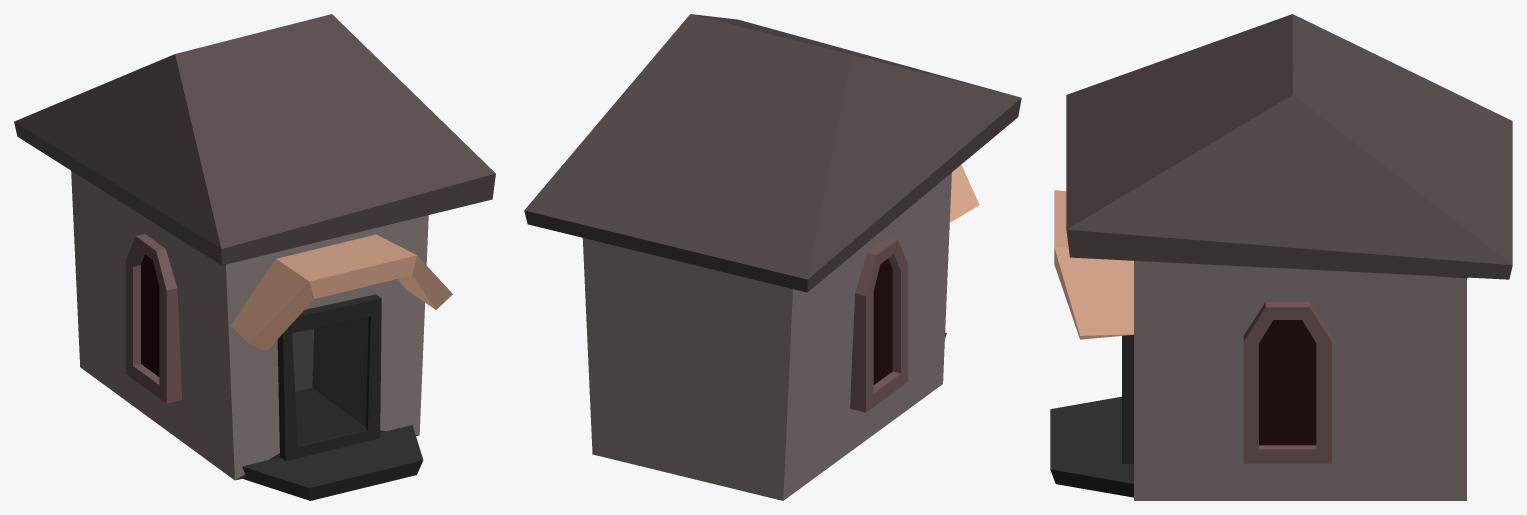
Rendered from HWN20_PetTomb_02.glb.
3 renders of one model, left to right at view 1: azimuth 30°, elevation 25°; view 2: azimuth 150°, elevation 25°; view 3: azimuth 270°, elevation 25°, orthographic. The views are drawn at different scales.
Parts seen in each view (by area): view 1: HWN20_PetTomb_02; view 2: HWN20_PetTomb_02; view 3: HWN20_PetTomb_02.
Part boxes in pixels (bbox=[...]): HWN20_PetTomb_02: bbox=[14, 14, 495, 500]; HWN20_PetTomb_02: bbox=[524, 14, 1021, 500]; HWN20_PetTomb_02: bbox=[1050, 14, 1512, 500].
Size of what is drawn, in the model's own units: 1.93 by 2.52 by 2.62.
Materials: 1 (1 with a texture image).
